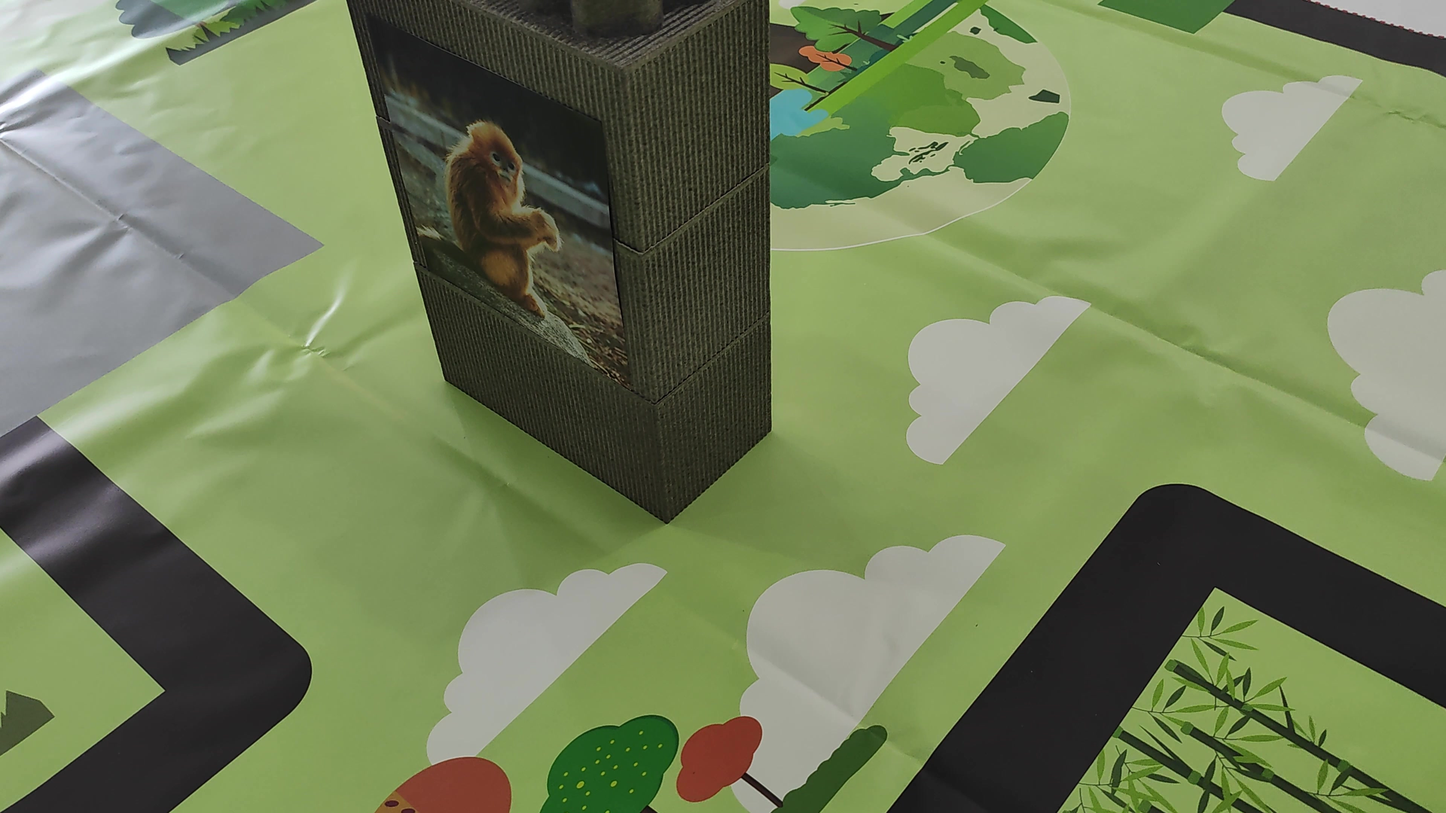monkey: (407, 101, 597, 332)
